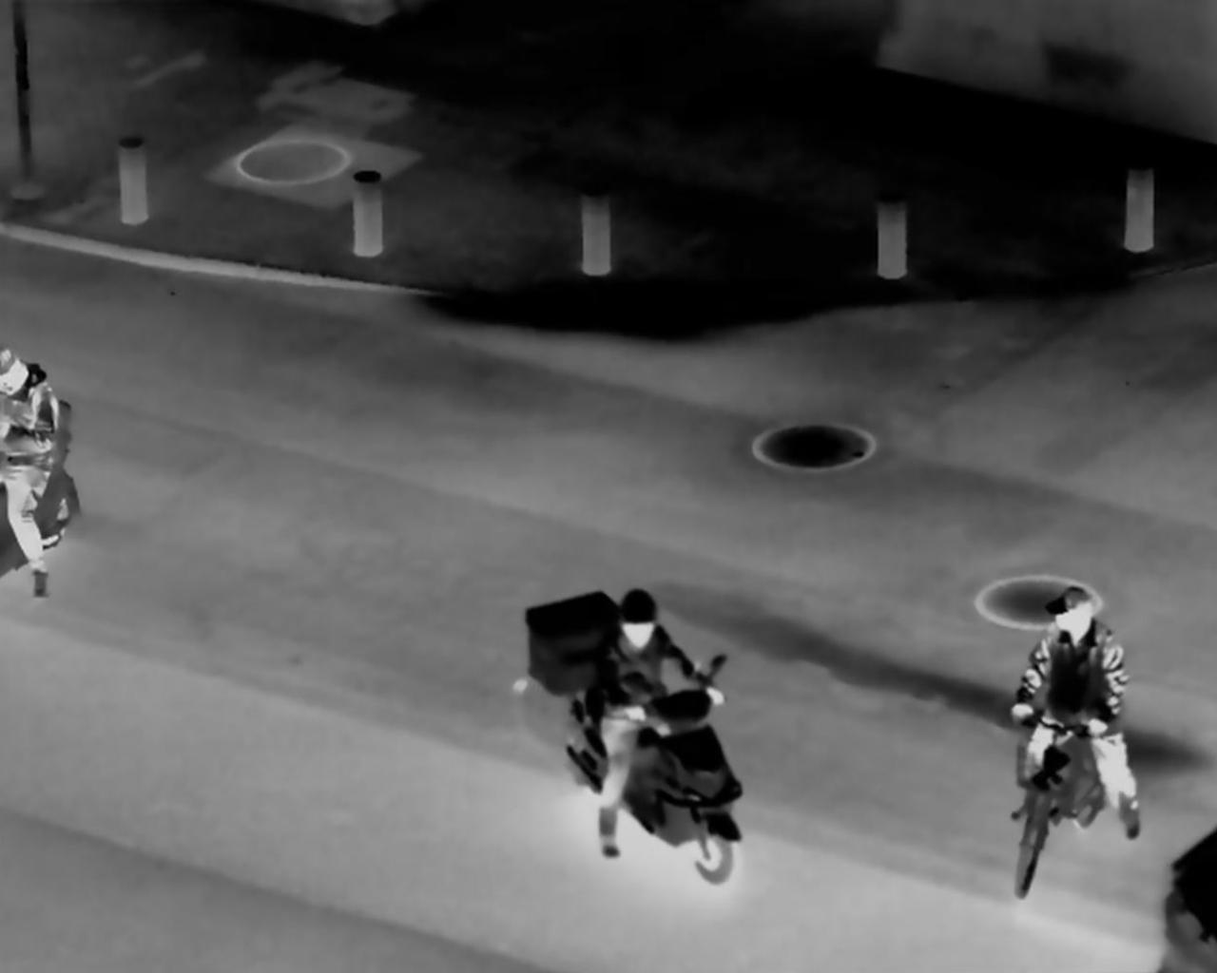person: (580, 579, 724, 878), (1022, 582, 1154, 850)
